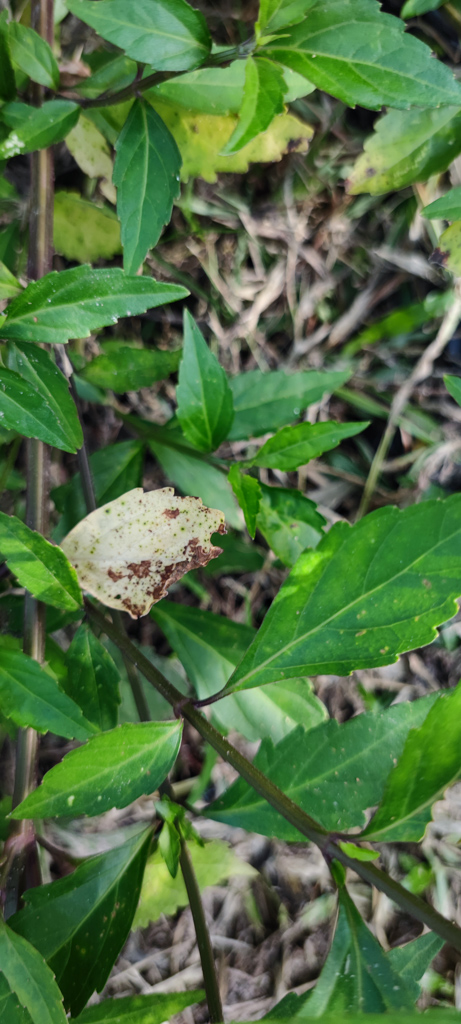Pepper yellow leaf: (163, 102, 316, 185)
